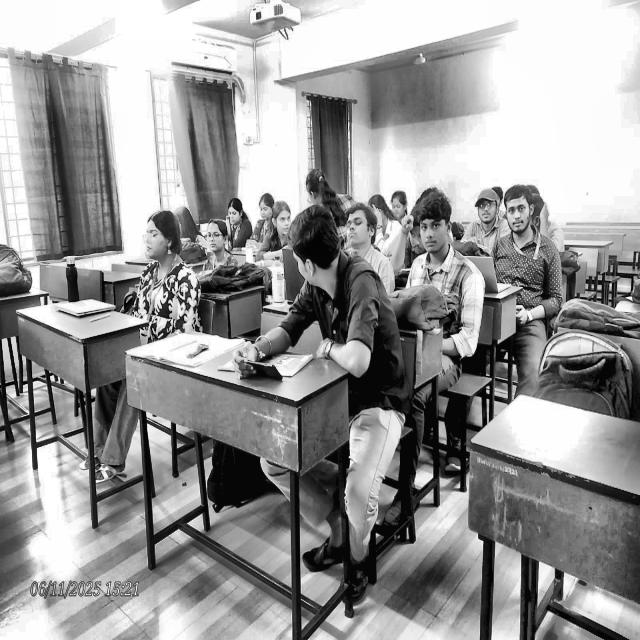Focus: (137, 211, 184, 273), (344, 200, 381, 254), (471, 190, 506, 237), (200, 216, 230, 256), (389, 189, 411, 226), (226, 195, 247, 228), (259, 192, 278, 224)
Not Focus: (277, 208, 342, 288), (412, 189, 451, 255), (505, 186, 536, 242), (304, 164, 329, 204)
